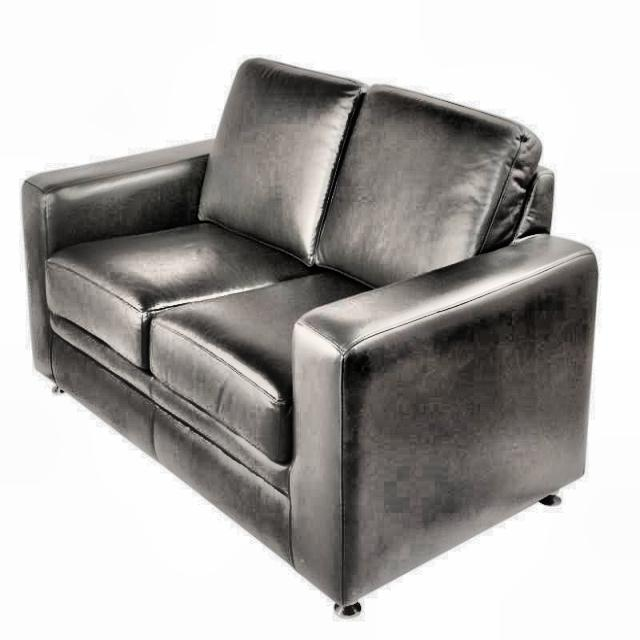sofa: (20, 55, 599, 619)
